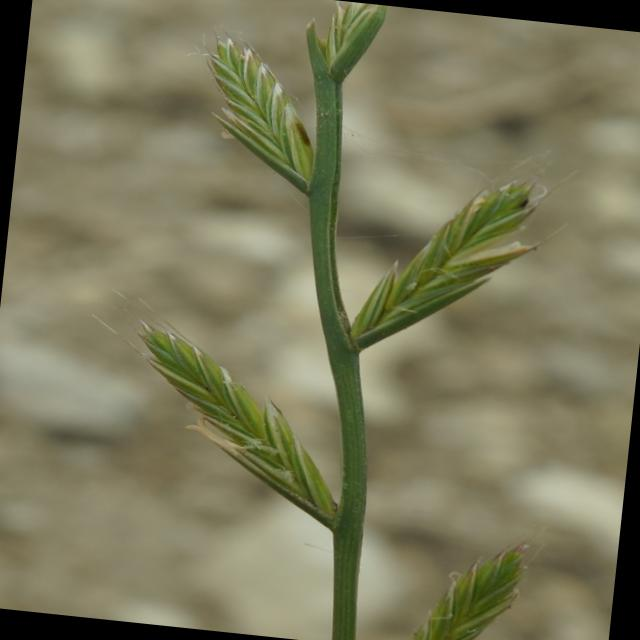Lolium: (65, 0, 592, 640)
